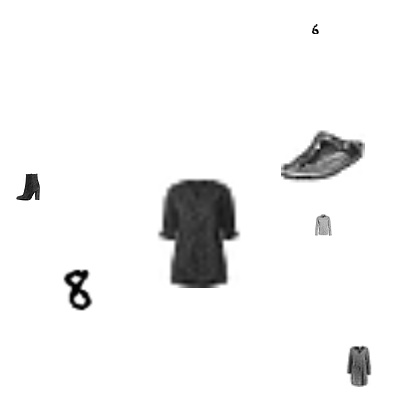6: (308, 23, 322, 37)
8: (50, 260, 106, 316)
Ankle_boot: (14, 173, 42, 201)
Dress: (338, 345, 380, 387)
Sandal: (281, 113, 365, 197)
Shirt: (143, 176, 255, 288), (312, 214, 334, 236)
